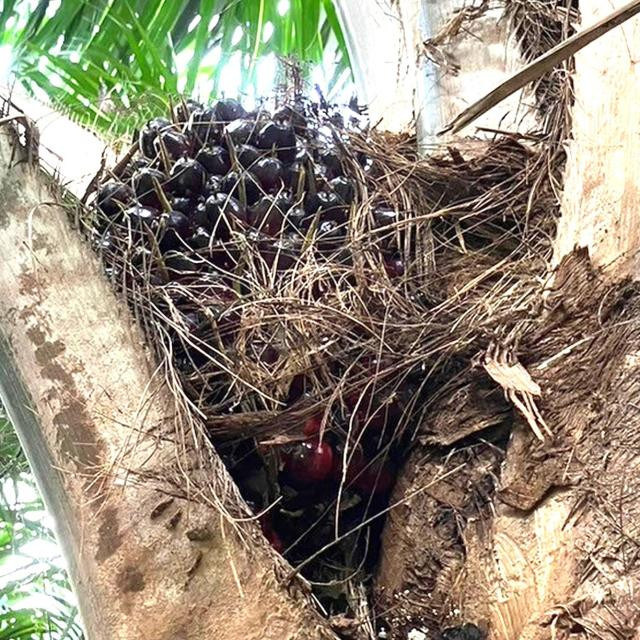ripe: (86, 100, 418, 559)
